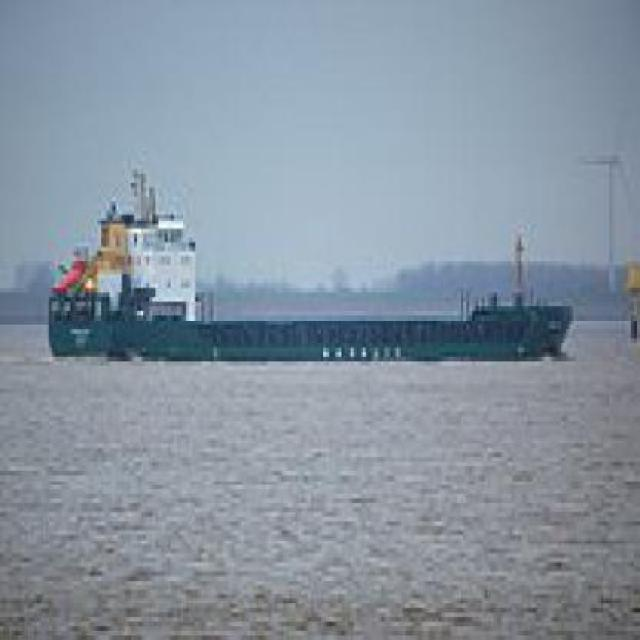container: (44, 161, 584, 381)
